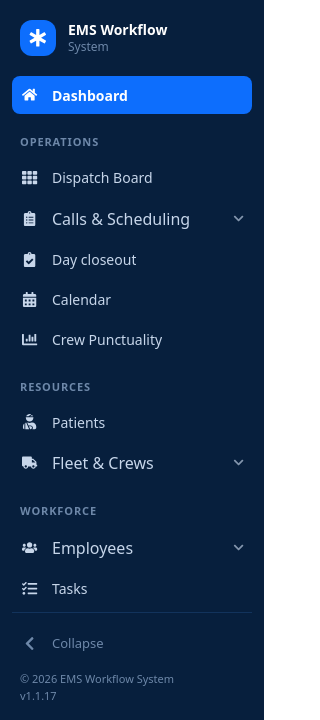
Scenario: Sidebar hubs (two-level navigation) › opens and closes on click, and says so to assistive tech
Click the button "Calls & Scheduling". click: coordinates (132, 218)
box: [12, 198, 252, 238]
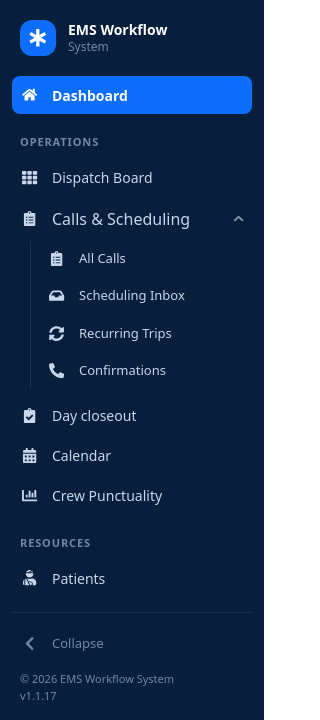
Result: the button "Calls & Scheduling" is expanded
Click the button "Calls & Scheduling". click: coordinates (132, 218)
box: [12, 198, 252, 238]
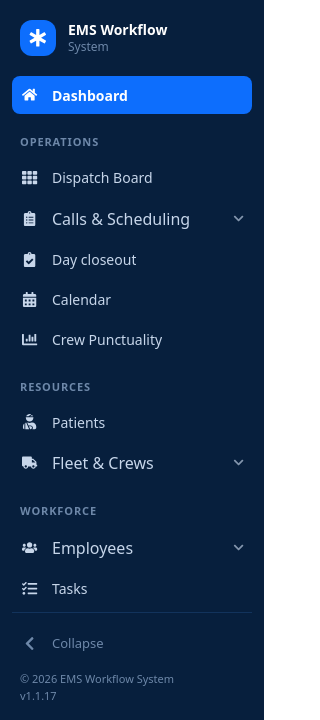
Result: the button "Calls & Scheduling" is collapsed at [12, 198, 252, 238]
